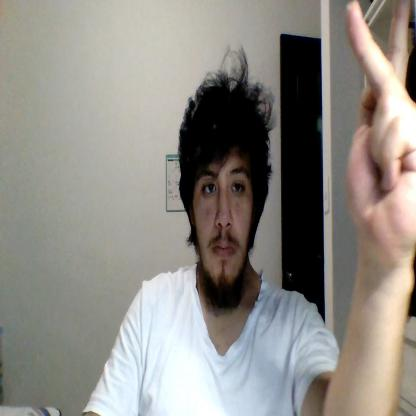P: (346, 0, 416, 253)
